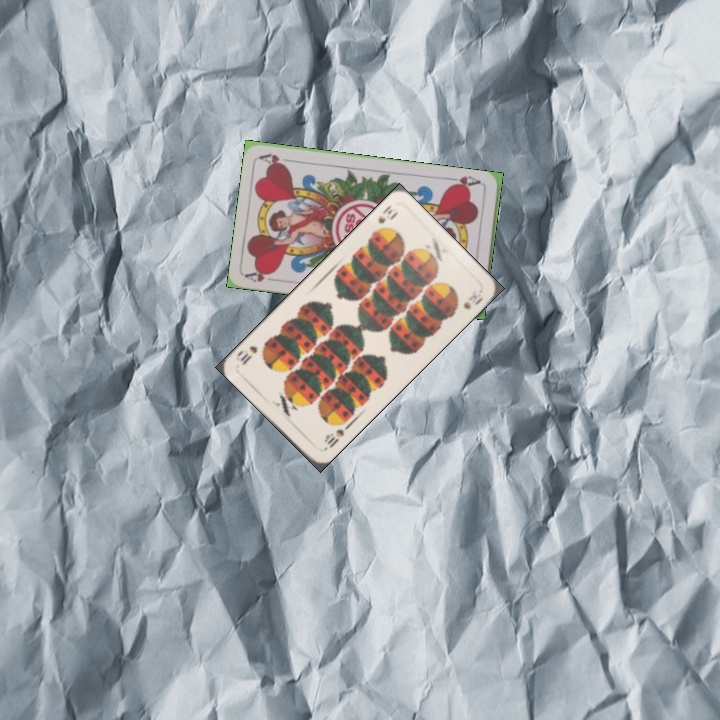HA: (445, 171, 485, 191), (242, 266, 283, 285)
S10: (369, 200, 401, 236), (320, 425, 347, 453)
